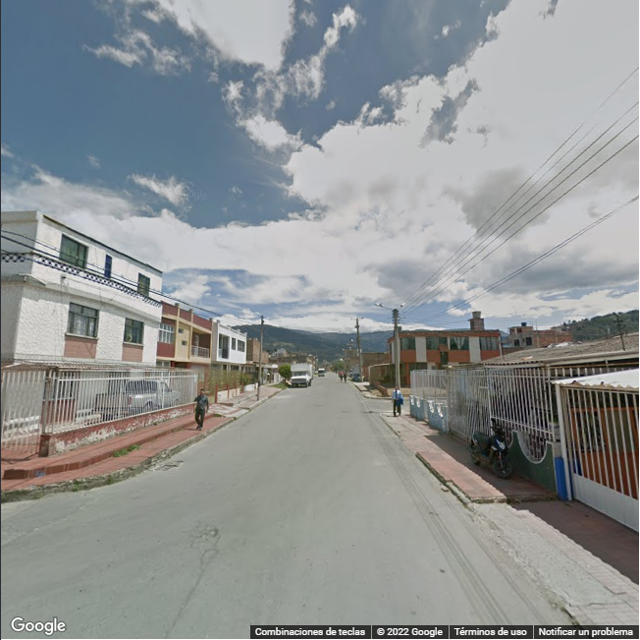D00: (159, 558, 212, 637)
D20: (192, 513, 219, 543)
